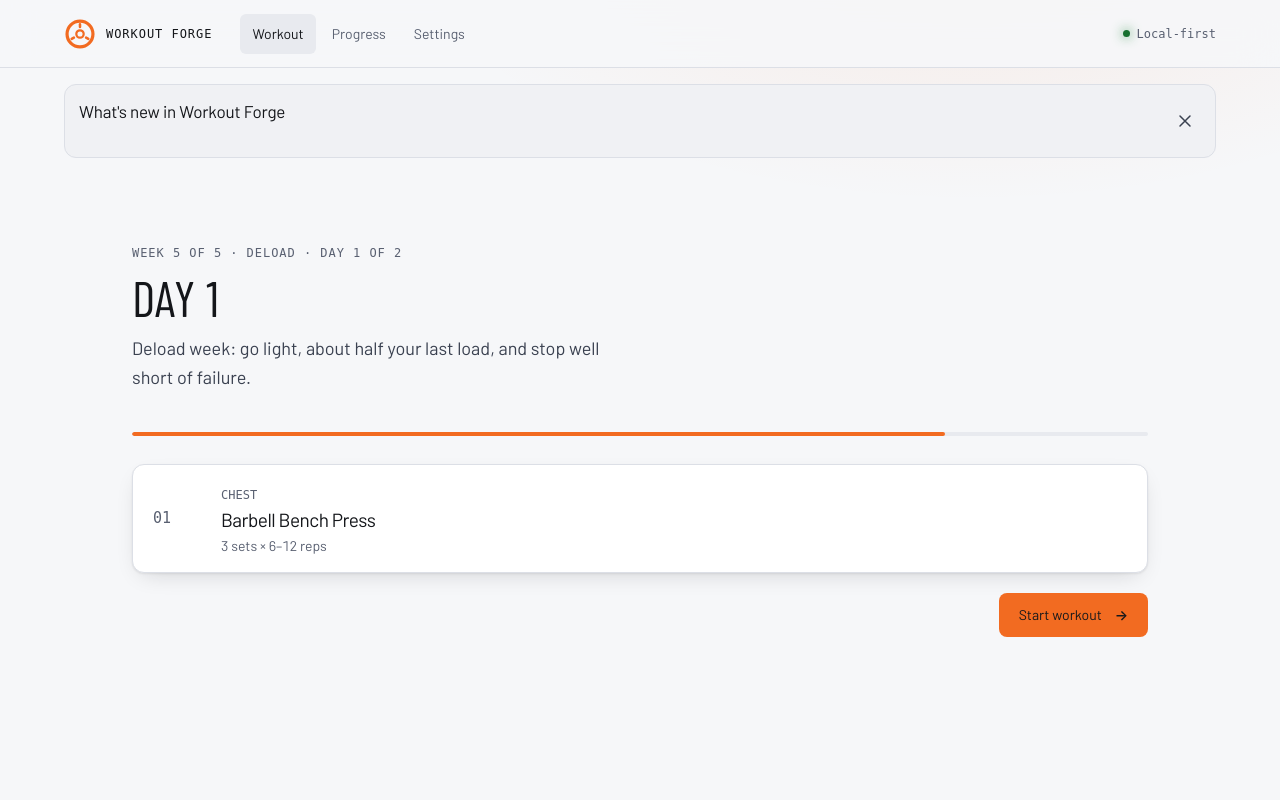
warm-up hint in the session › shows in a deload week, following the lighter prefilled weight
Click the button "Start workout →".
click(1073, 615)  # box [999,593,1148,637]
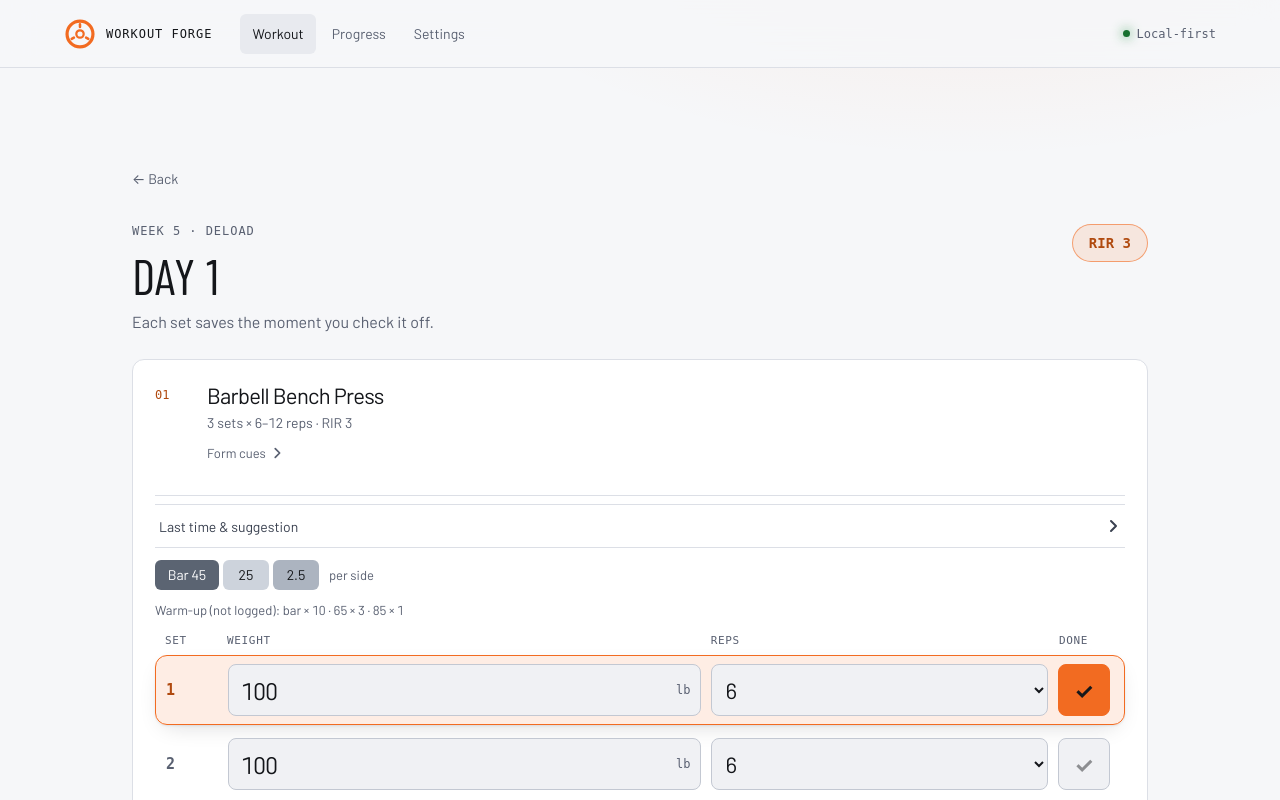
Expected: the text "WEEK 5 · DELOAD" is shown, [132,224,255,238]
Expected: the field named "Set 1 weight" holds "100", [228,664,700,716]
Expected: the text with class "warmup-hint" reads "Warm-up (not logged): bar × 10 · 65 × 3 · 85 × 1", [155,602,404,618]
